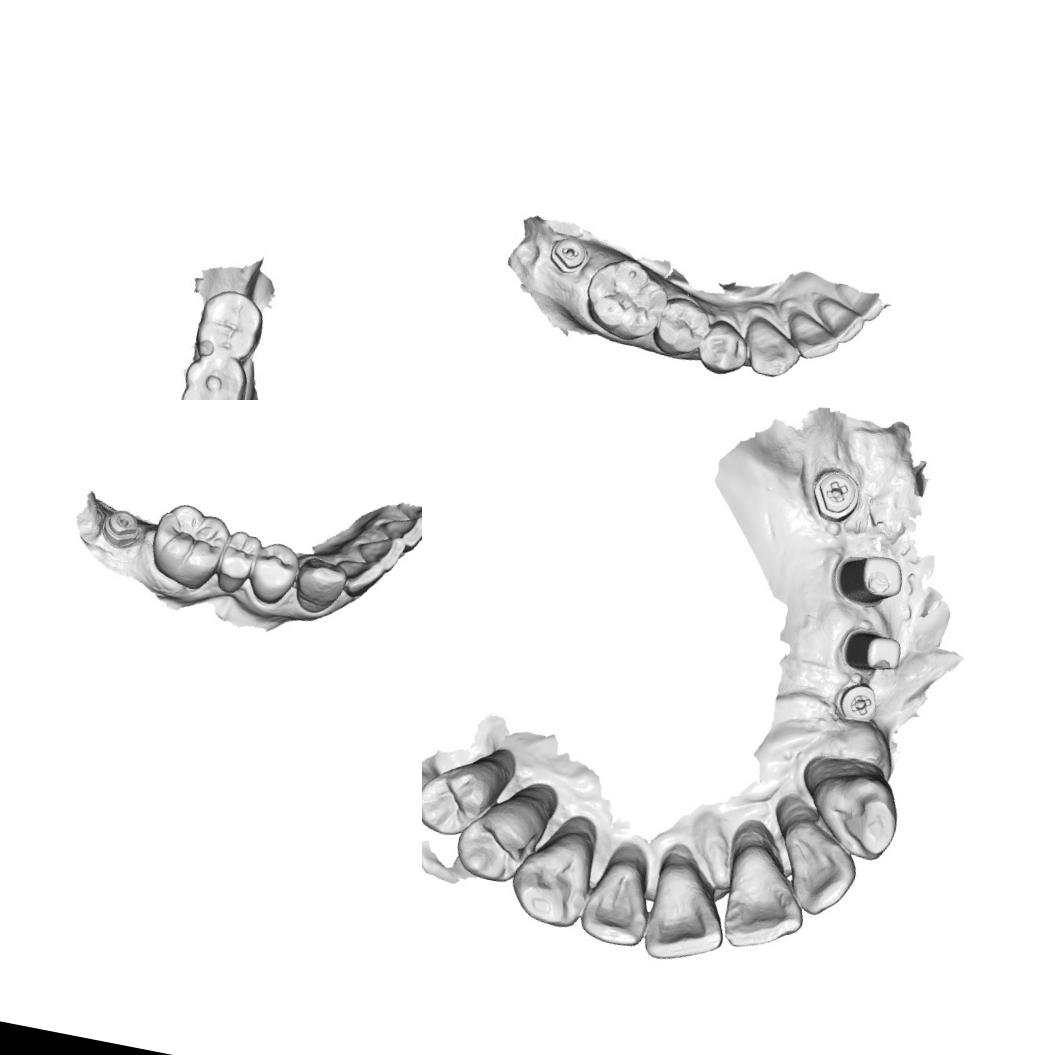abutment: (830, 545, 907, 610), (835, 623, 906, 680)
canine: (800, 766, 902, 864), (505, 822, 596, 931), (736, 312, 808, 382), (289, 550, 350, 618)
implant_minus: (546, 232, 592, 277), (101, 502, 144, 544)
implant_plus: (804, 458, 866, 522), (834, 679, 878, 722)
incisor: (640, 850, 738, 972), (716, 838, 814, 960), (769, 816, 864, 923), (578, 848, 657, 950), (781, 304, 845, 366), (808, 293, 869, 346), (338, 552, 388, 601), (350, 534, 406, 576), (372, 510, 420, 549), (390, 492, 422, 529)
molar: (577, 250, 675, 347), (143, 496, 231, 593), (194, 284, 262, 362), (173, 347, 250, 400)
premolar: (448, 800, 536, 889), (422, 754, 497, 843), (648, 291, 716, 362), (241, 536, 304, 609), (692, 314, 755, 379), (212, 524, 262, 597)
